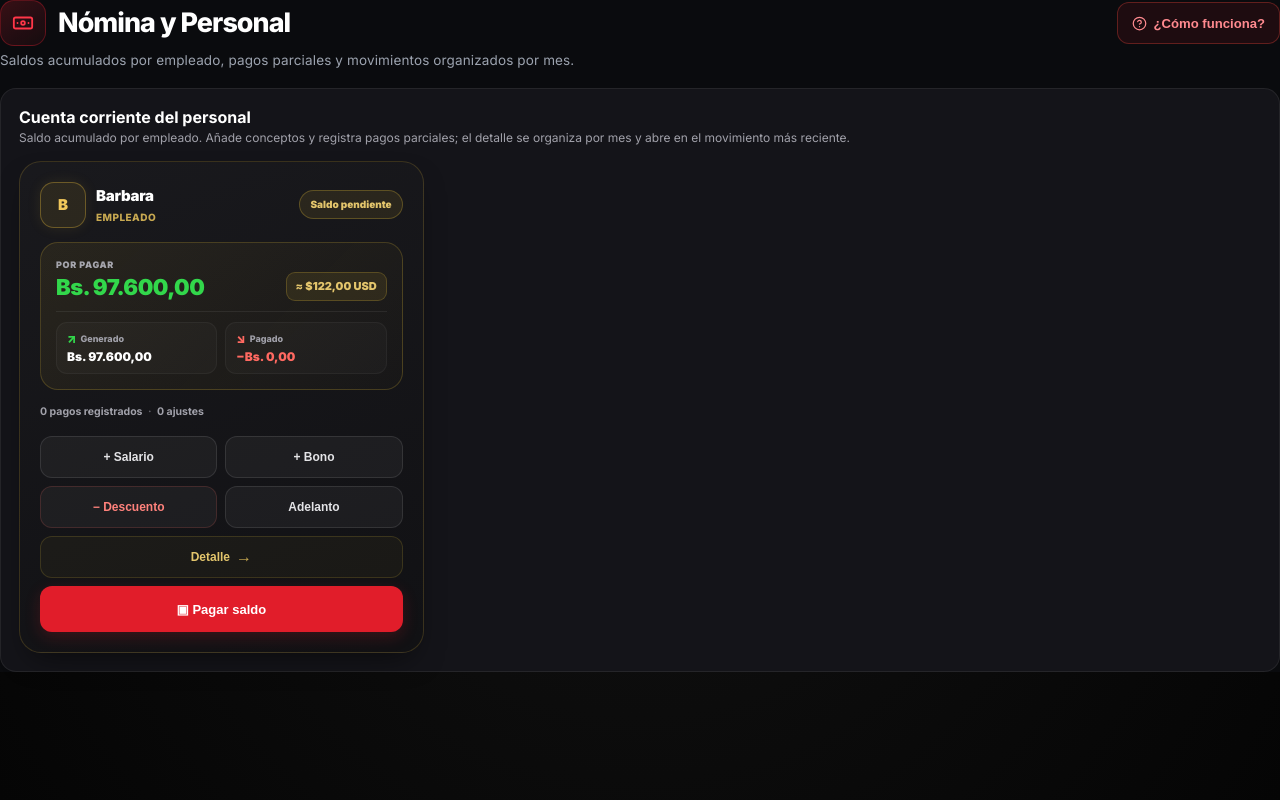
Historial de nómina › prellena el salario semanal al añadir salario desde la tarjeta
Expected: the text "Barbara" is shown, [96,185,156,208]
Click the button "+ Salario". click: (129, 457)
box: [40,436,217,478]
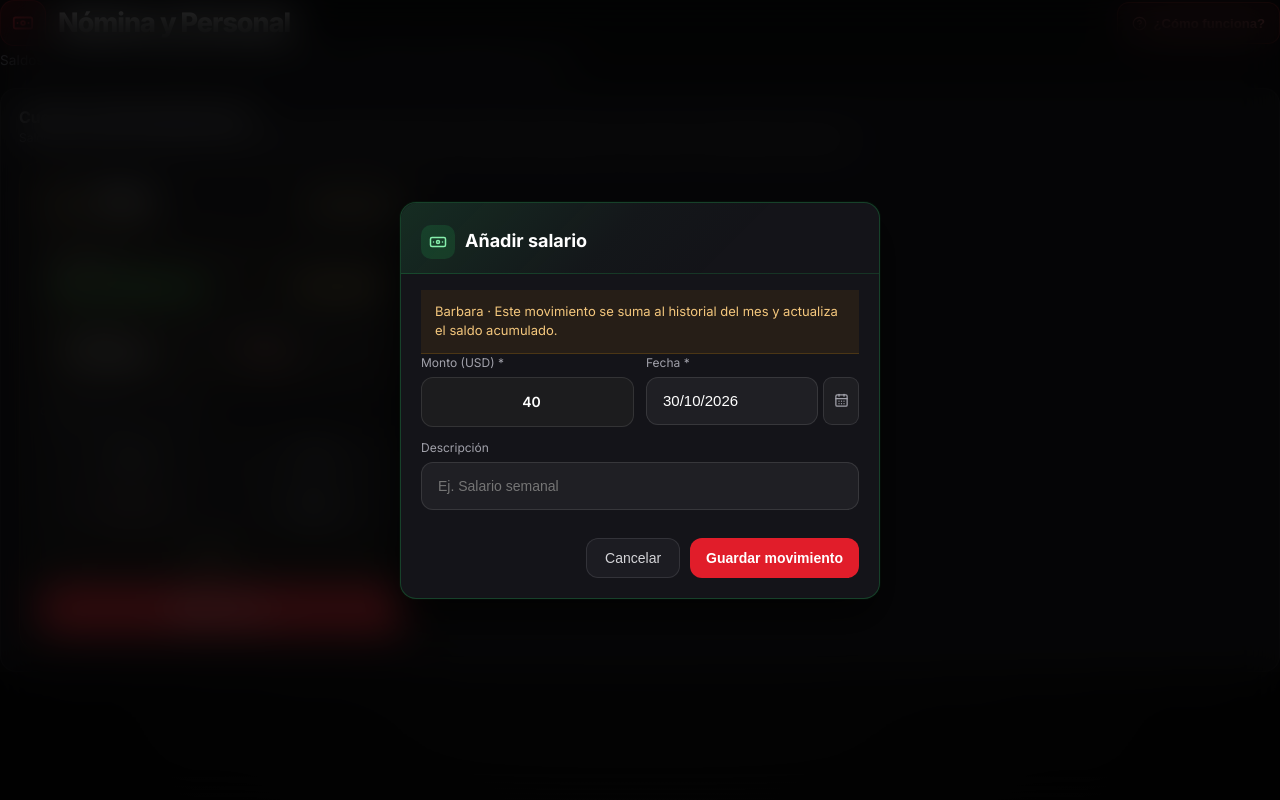
Now the heading "Añadir salario" is shown, box [465,230,587,253]
Now the number field holds "40", box [422,378,633,426]
